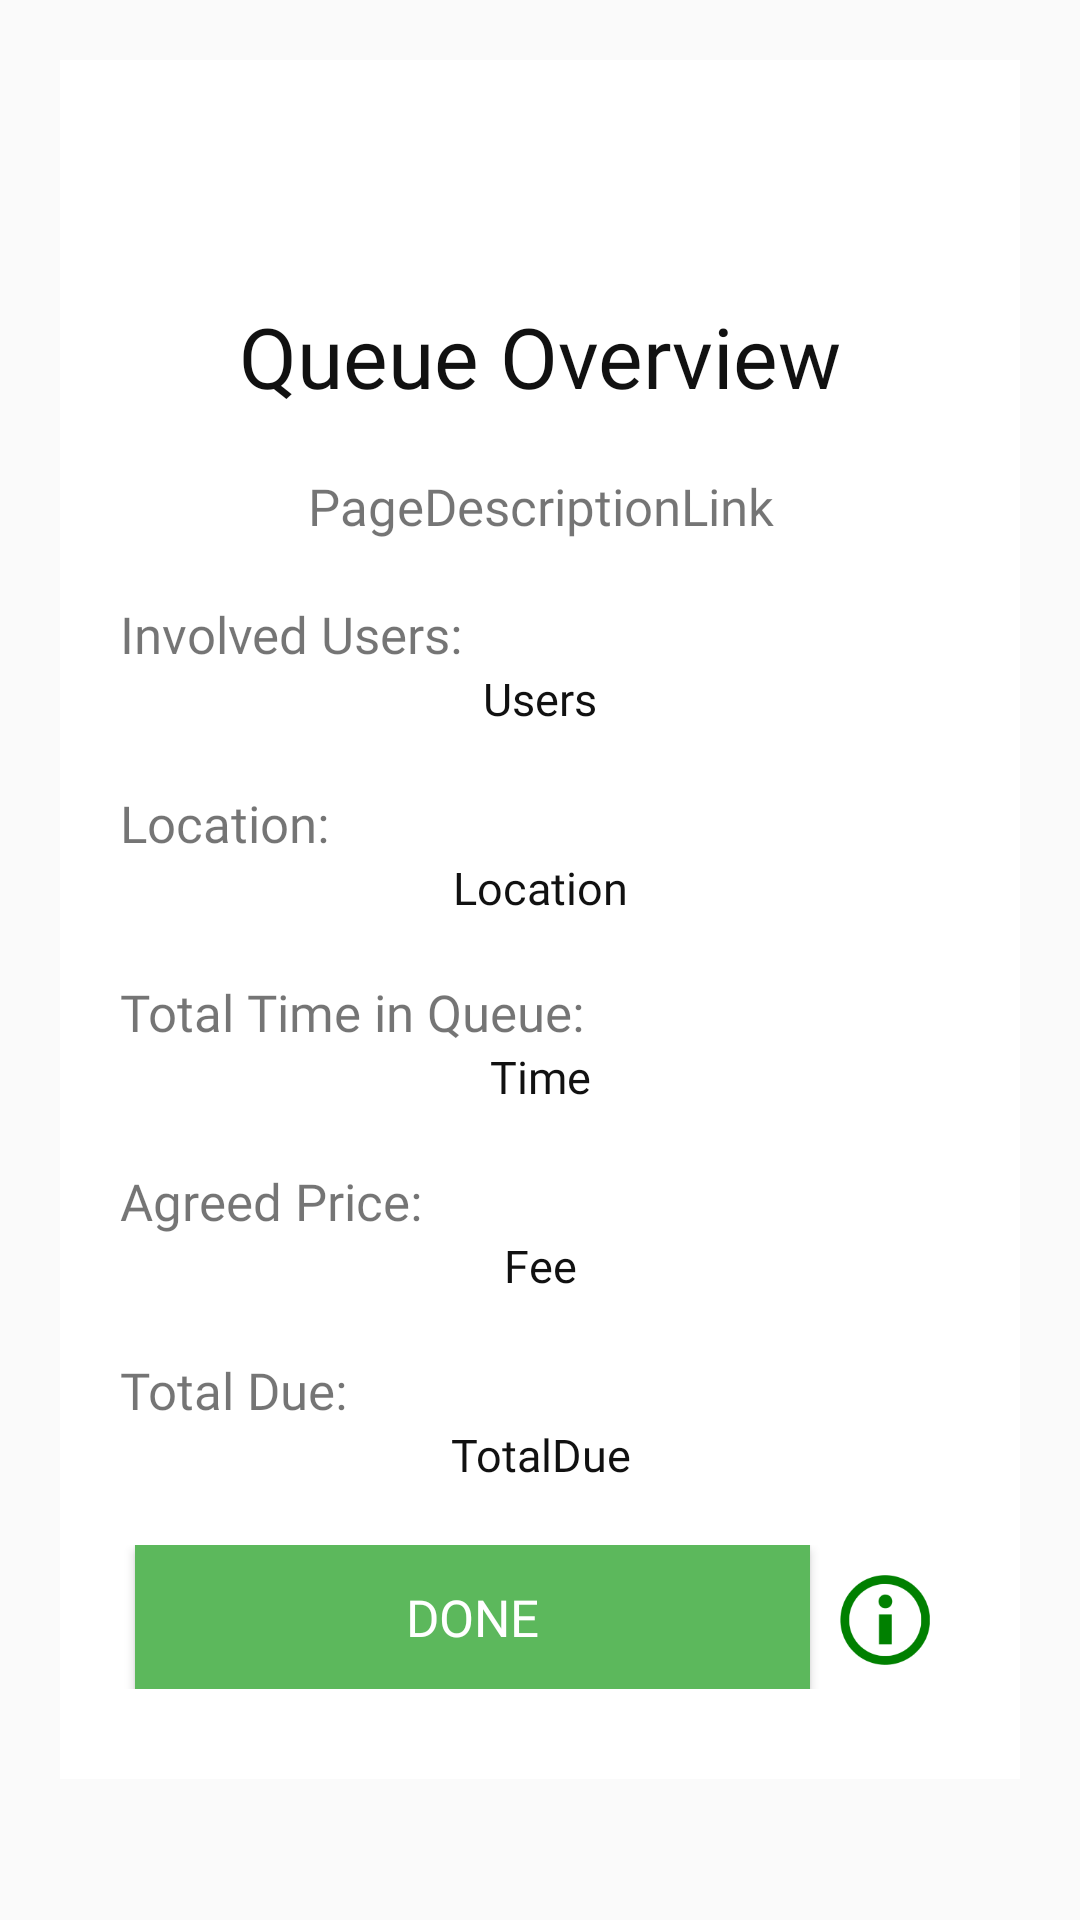

Where icons sit on this 1080×1920 app screen, as (x1, y1, x2, y2):
infomation: (840, 1575, 930, 1665)
